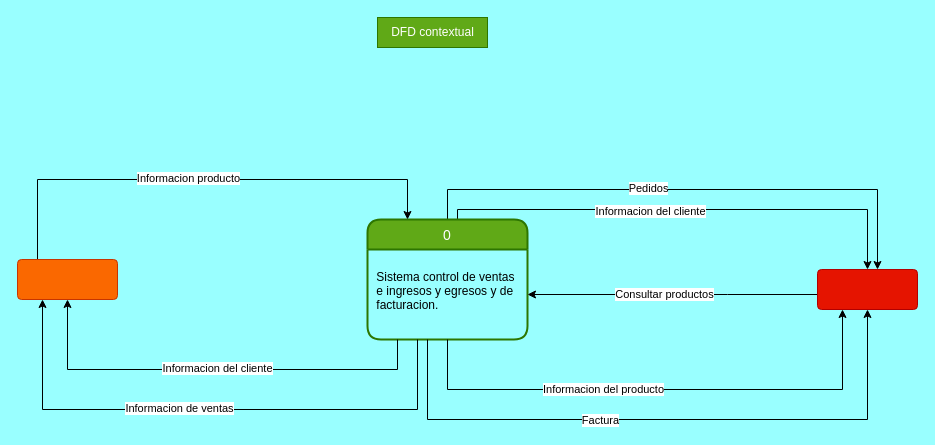
The diagram is 935 pixels wide and 445 high, and some of its shapes have lost their labels. The shapes that lost their labels are listed below. From the top down, each one's box as (x1, y1, x2, y2) in pixels, then its label:
(16, 258, 118, 300): Administrador
(816, 268, 918, 310): Empleado
